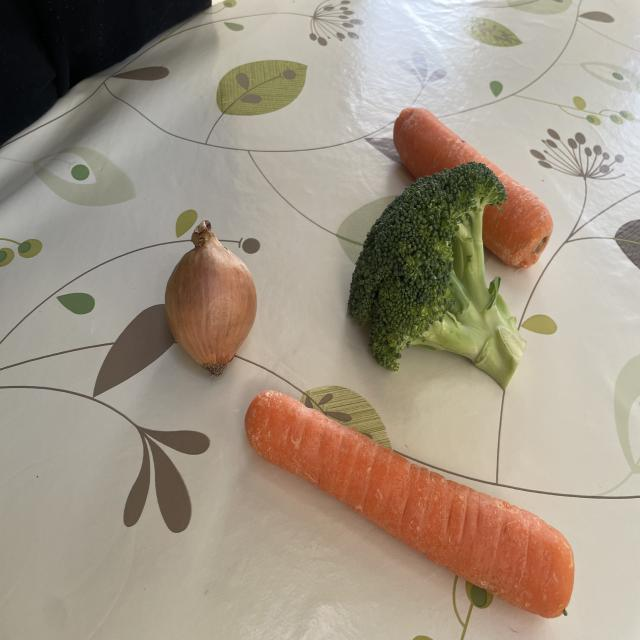Broccoli: (347, 160, 527, 391)
Carrot: (244, 387, 577, 621), (392, 104, 553, 271)
Onion: (165, 216, 259, 382)
